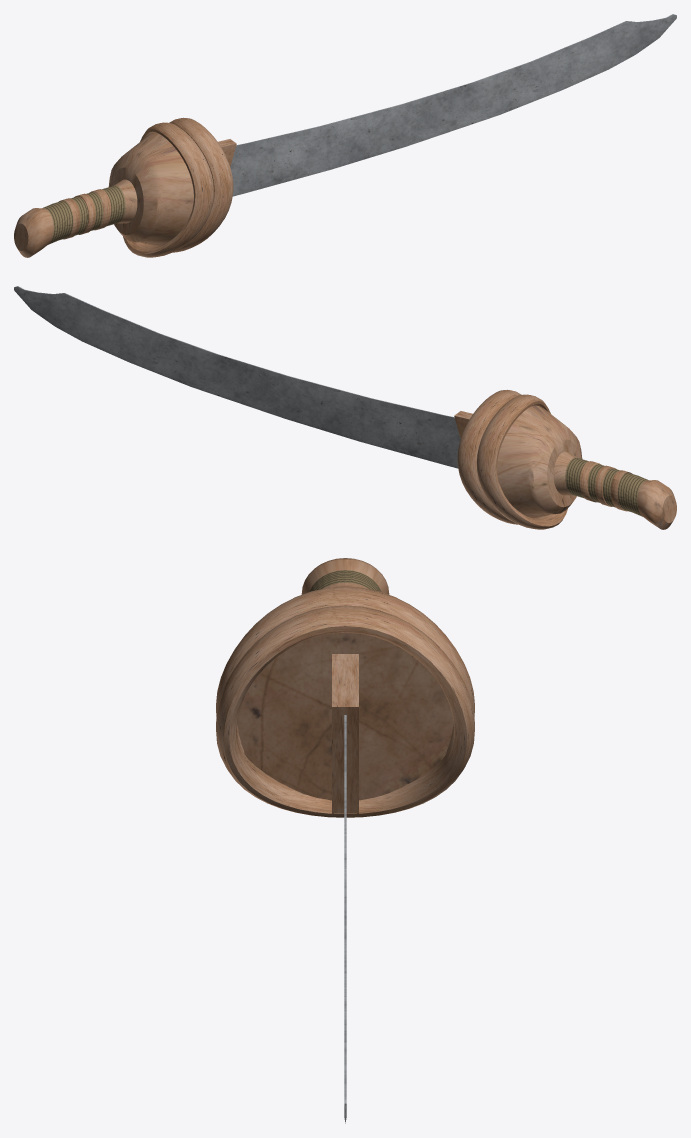
File: siaf.glb
3 views of the same model, one above another, from view 1: azimuth 30°, elevation 25°; view 2: azimuth 150°, elevation 25°; view 3: azimuth 270°, elevation 25° (orthographic). The views are drawn at different scales.
Visible parts, largest first — view 1: Cutlass; view 2: Cutlass; view 3: Cutlass.
Part boxes in pixels (bbox=[...]): Cutlass: bbox=[14, 14, 676, 257]; Cutlass: bbox=[14, 286, 676, 529]; Cutlass: bbox=[216, 558, 474, 1123].
Size of the model in its own units: 2.2 by 0.3765 by 0.376.
Materials: 3 (3 with a texture image).
